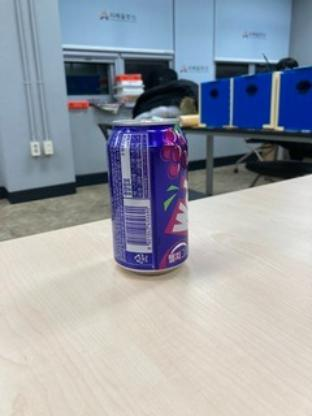Can: (104, 115, 192, 277)
